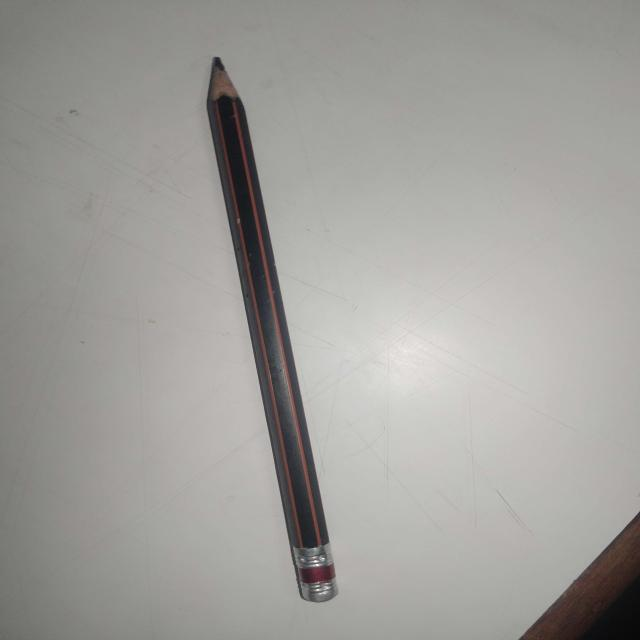pen_pencil: (94, 19, 450, 630)
